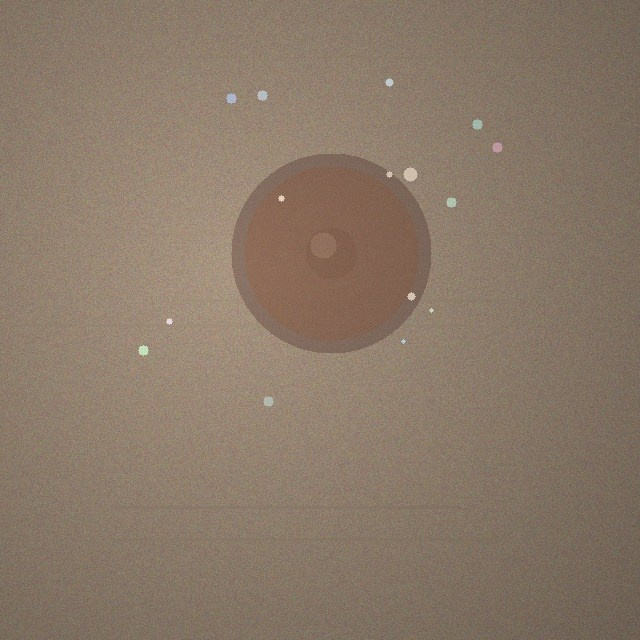overburn: (231, 153, 431, 353)
